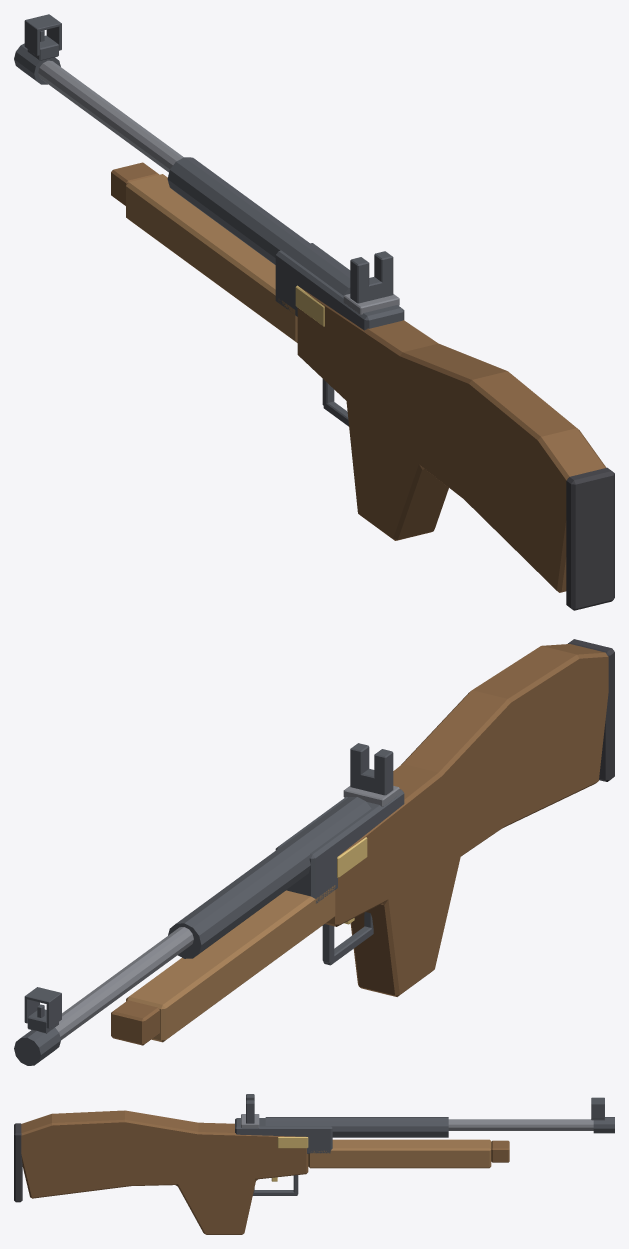
Rendered from luftgewehr.glb.
3 renders of one model, top to bottom at view 1: azimuth 30°, elevation 25°; view 2: azimuth 150°, elevation 25°; view 3: azimuth 270°, elevation 25°, orthographic. The views are drawn at different scales.
Visible parts, largest first — view 1: Luftgewehr; view 2: Luftgewehr; view 3: Luftgewehr.
Boxes of the visible parts, left/top/right/bottom form: Luftgewehr: left=14, top=14, right=614, bottom=610; Luftgewehr: left=14, top=639, right=614, bottom=1065; Luftgewehr: left=14, top=1094, right=614, bottom=1234.
Bounding box in the file's own units: 0.044 × 0.238 × 0.9845.
